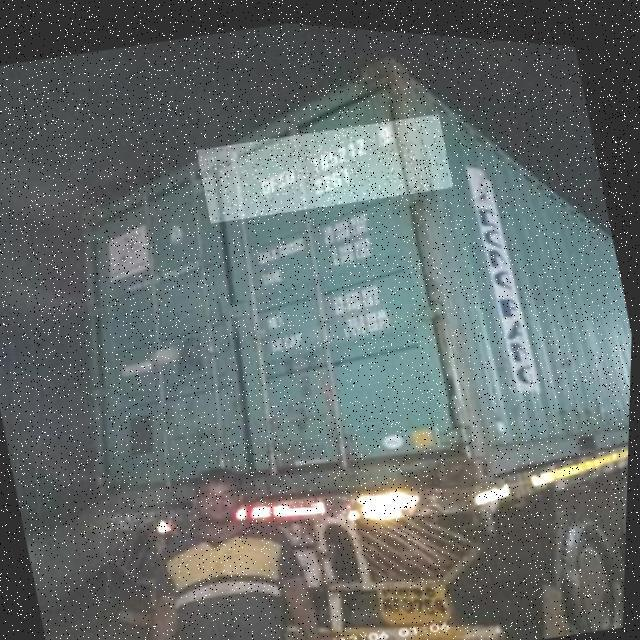container_number_h: (195, 90, 455, 235)
